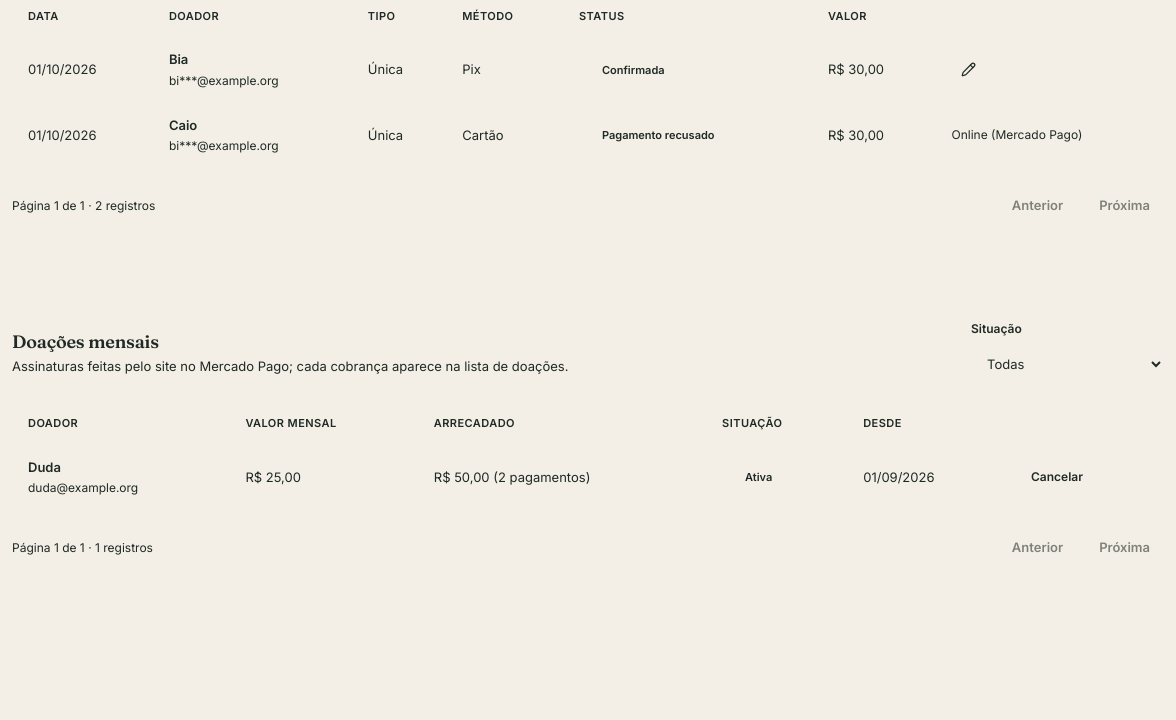
monthly donations can be cancelled
This screenshot has width=1176, height=720.
(page scrolled)
Expected: the text "Duda" is shown, x1=28 y1=459 x2=61 y2=475
Expected: the text "R$ 50,00 (2 pagamentos)" is shown, x1=418 y1=445 x2=706 y2=510
Click the button "Cancelar" at (1057, 477), box x1=1021 y1=460 x2=1093 y2=494
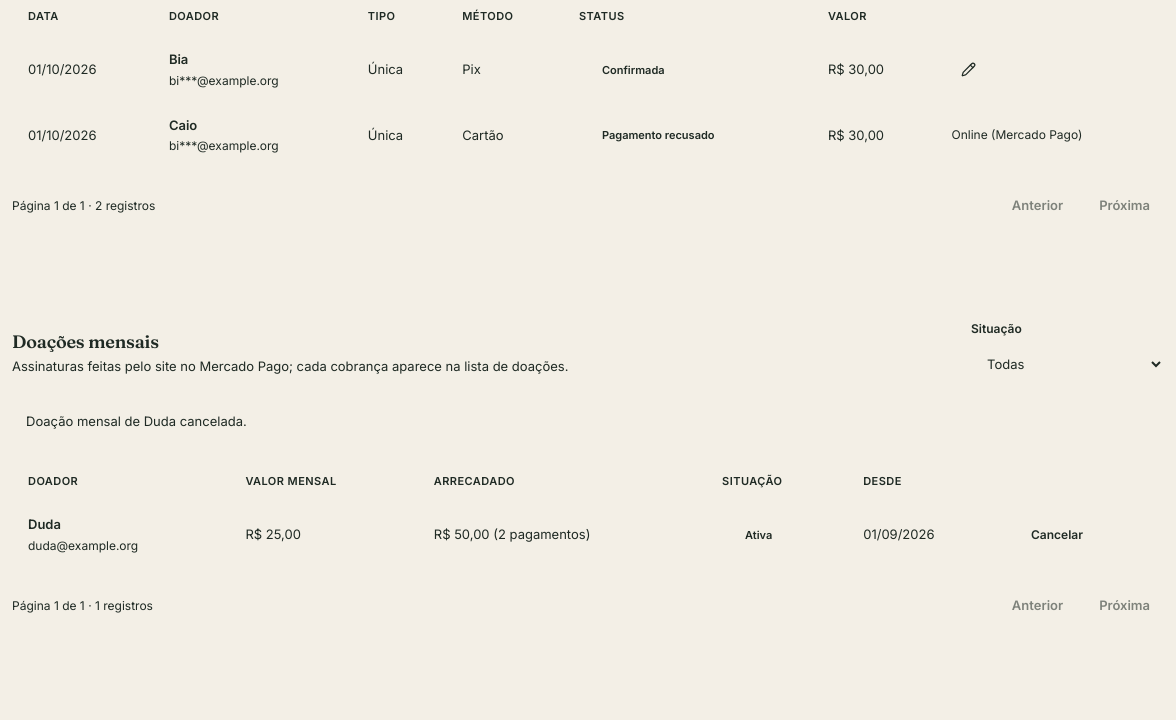
Expected: the text "Doação mensal de Duda cancelada." is shown, x1=26 y1=413 x2=247 y2=429
